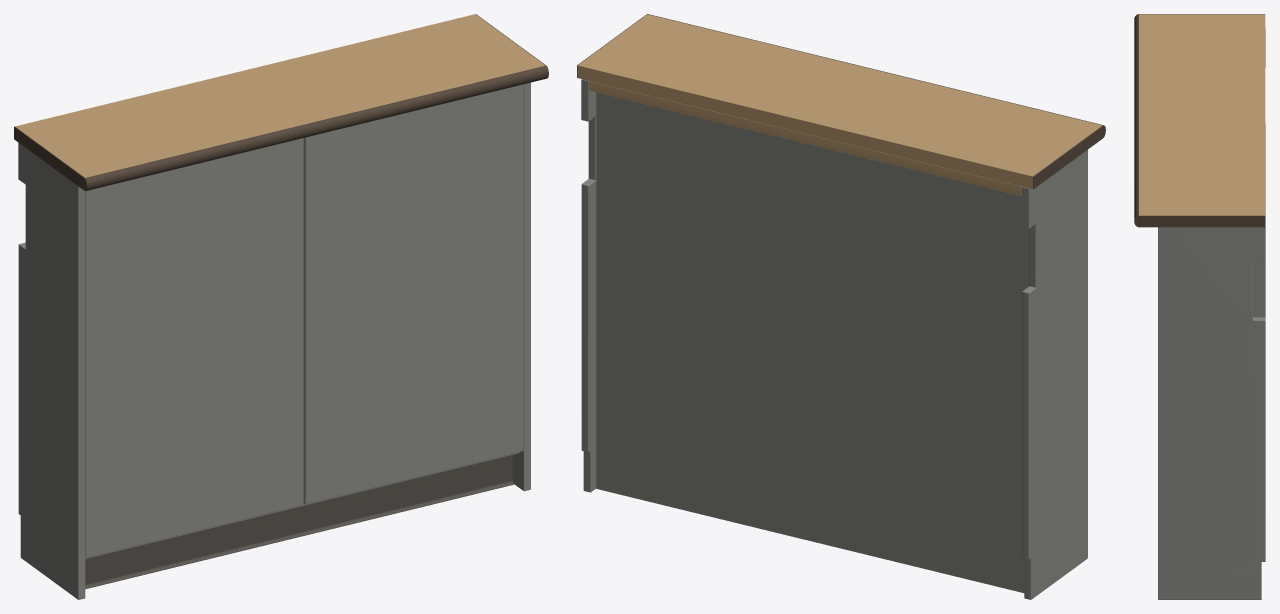
File: Kit_StationCounter_Ledge120.fbx
3 renders of one model, left to right at view 1: azimuth 30°, elevation 25°; view 2: azimuth 150°, elevation 25°; view 3: azimuth 270°, elevation 25°, orthographic. The views are drawn at different scales.
Parts seen in each view (by area): view 1: Kit_StationCounter_Ledge120_LOD0; view 2: Kit_StationCounter_Ledge120_LOD0; view 3: Kit_StationCounter_Ledge120_LOD0.
Boxes of the visible parts, bbox=[...] form: Kit_StationCounter_Ledge120_LOD0: bbox=[14, 14, 548, 599]; Kit_StationCounter_Ledge120_LOD0: bbox=[577, 14, 1105, 599]; Kit_StationCounter_Ledge120_LOD0: bbox=[1134, 14, 1265, 599].
Size of what is drawn, in the model's own units: 1.2 by 1.07 by 0.3301.
